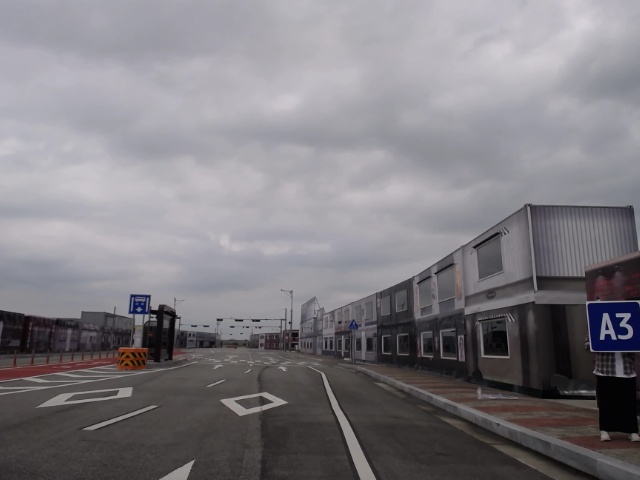delivery_a3: (587, 301, 639, 352)
